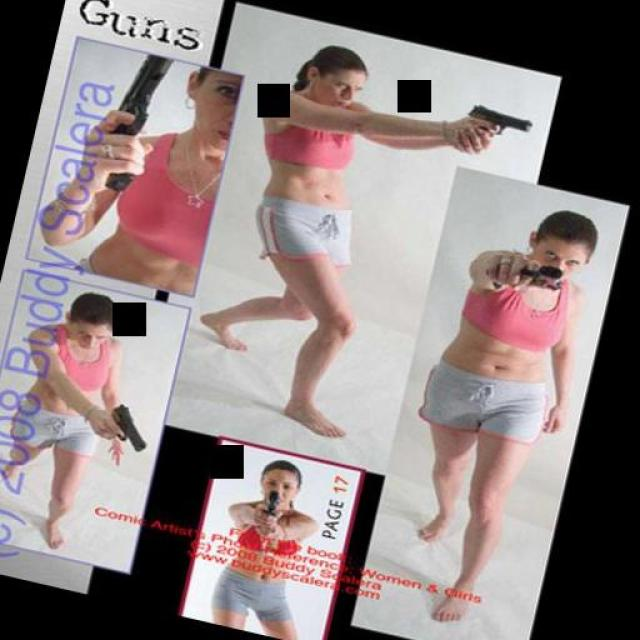gun: (84, 43, 175, 194), (488, 251, 568, 305), (458, 99, 536, 150), (102, 402, 152, 452), (258, 486, 278, 515)
